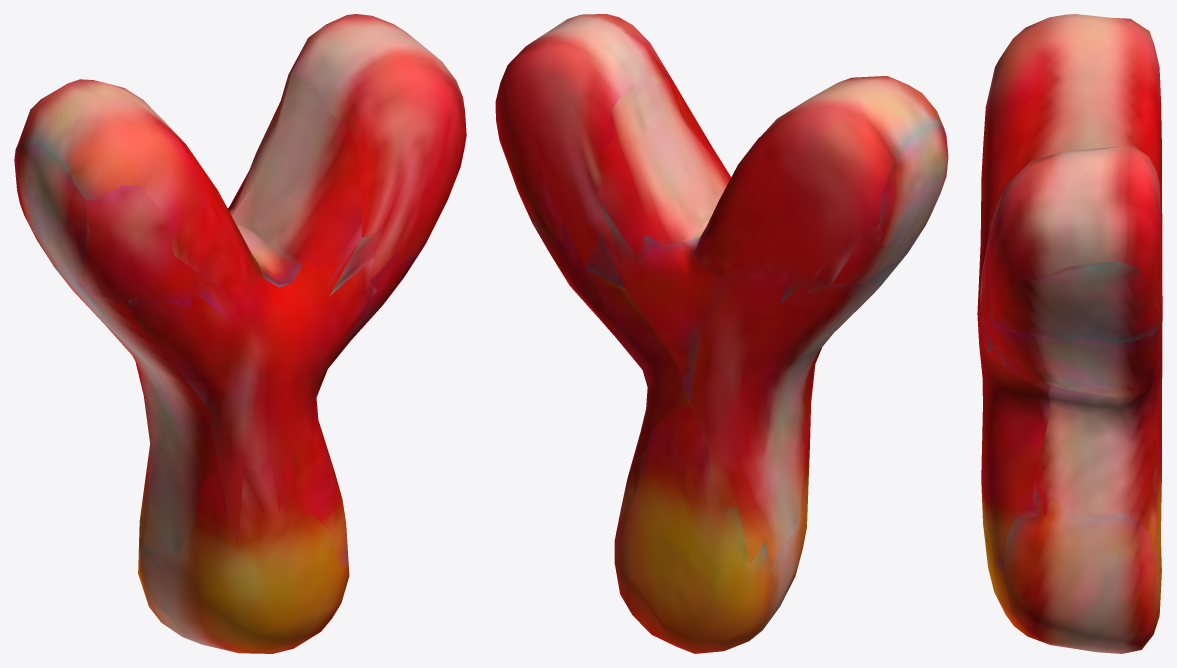
3 renders of one model, left to right at view 1: azimuth 30°, elevation 25°; view 2: azimuth 150°, elevation 25°; view 3: azimuth 270°, elevation 25°, orthographic. The views are drawn at different scales.
Visible parts, largest first — view 1: Candy-Letter-Y; view 2: Candy-Letter-Y; view 3: Candy-Letter-Y.
Part boxes in pixels (x1,y1,x2,y2): Candy-Letter-Y: (14,14,466,653); Candy-Letter-Y: (495,14,948,653); Candy-Letter-Y: (977,14,1162,653).
Bounding box in the file's own units: 0.258 × 0.3554 × 0.1068.
Materials: 1 (1 with a texture image).
